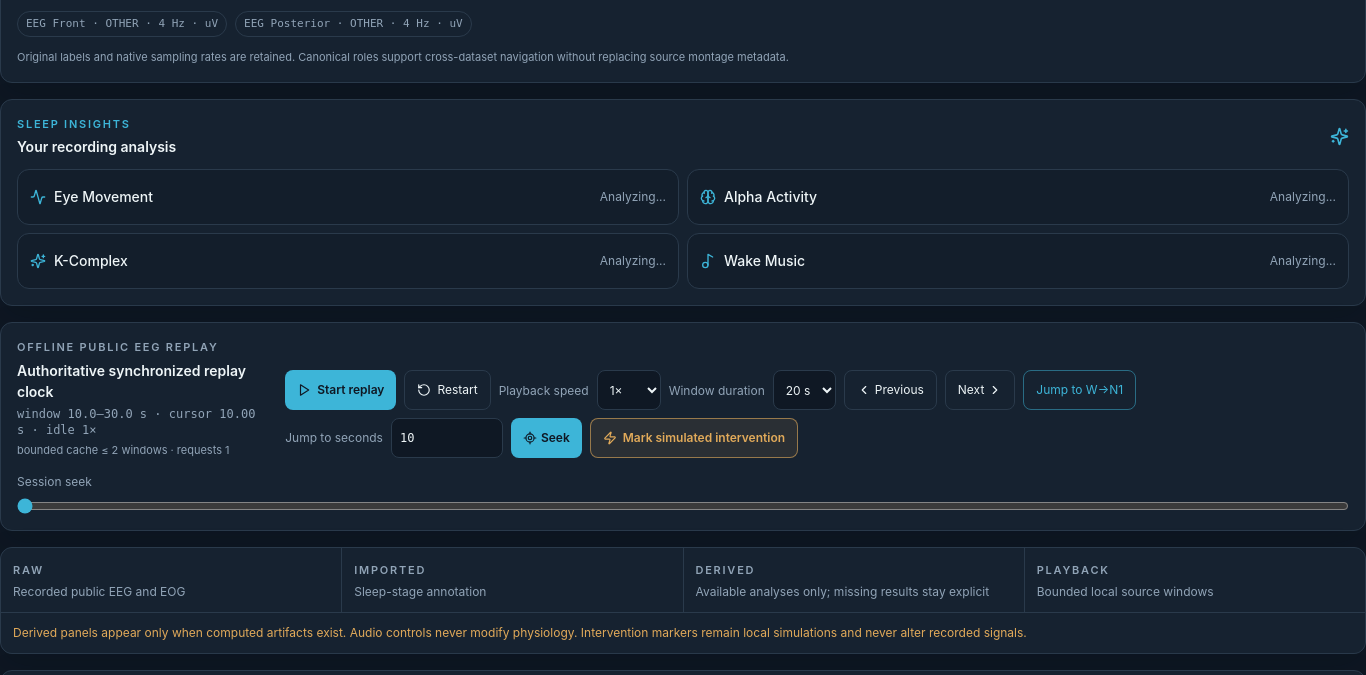
Scenario: real Alpha viewer states › advances an offline replay cursor and records only simulated intervention markers
This screenshot has width=1366, height=675.
Expected: the text with test id "window-range" shows "cursor 10.00 s · idle", [17,406,269,438]
Click the button "Start replay".
click(341, 390)  # box [285,370,396,410]
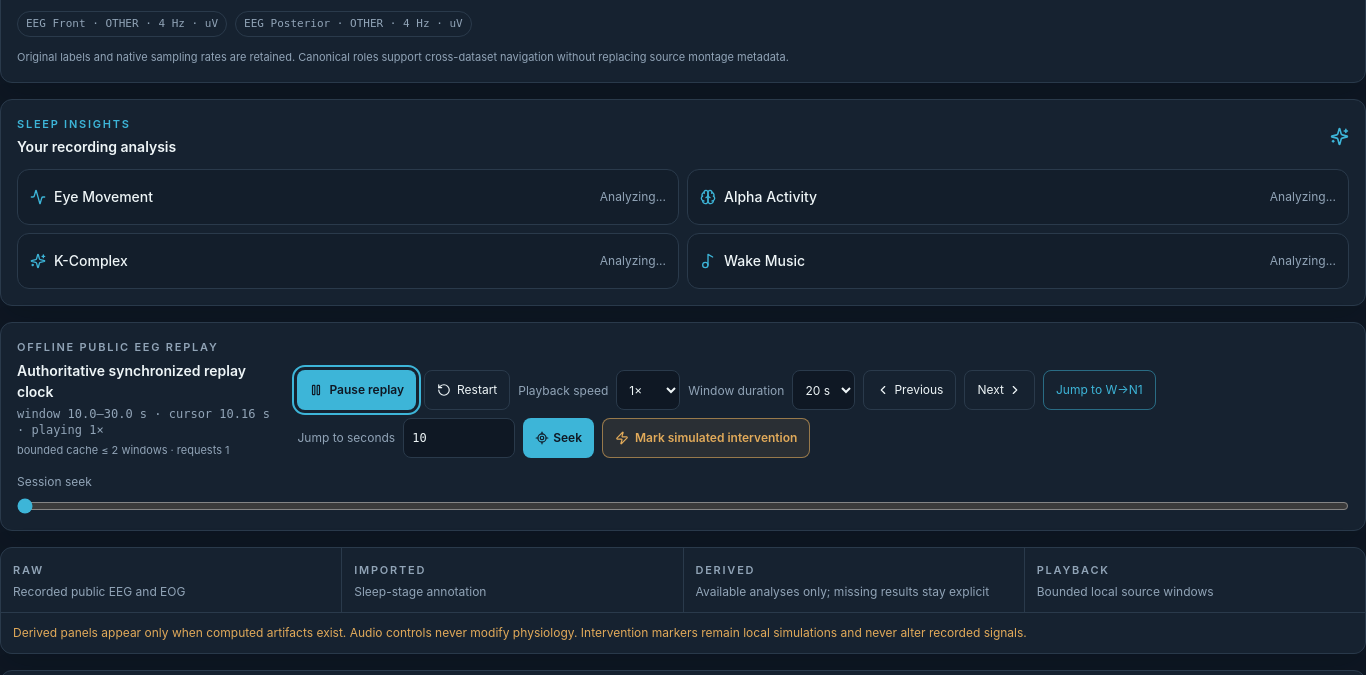
Expected: the text with test id "window-range" shows "playing 1×", [17,406,282,438]
Expected: the text with test id "window-range" no longer shows "cursor 10.00 s", [17,406,282,438]
Click the button "Pause replay".
click(357, 390)  # box [298,370,416,410]
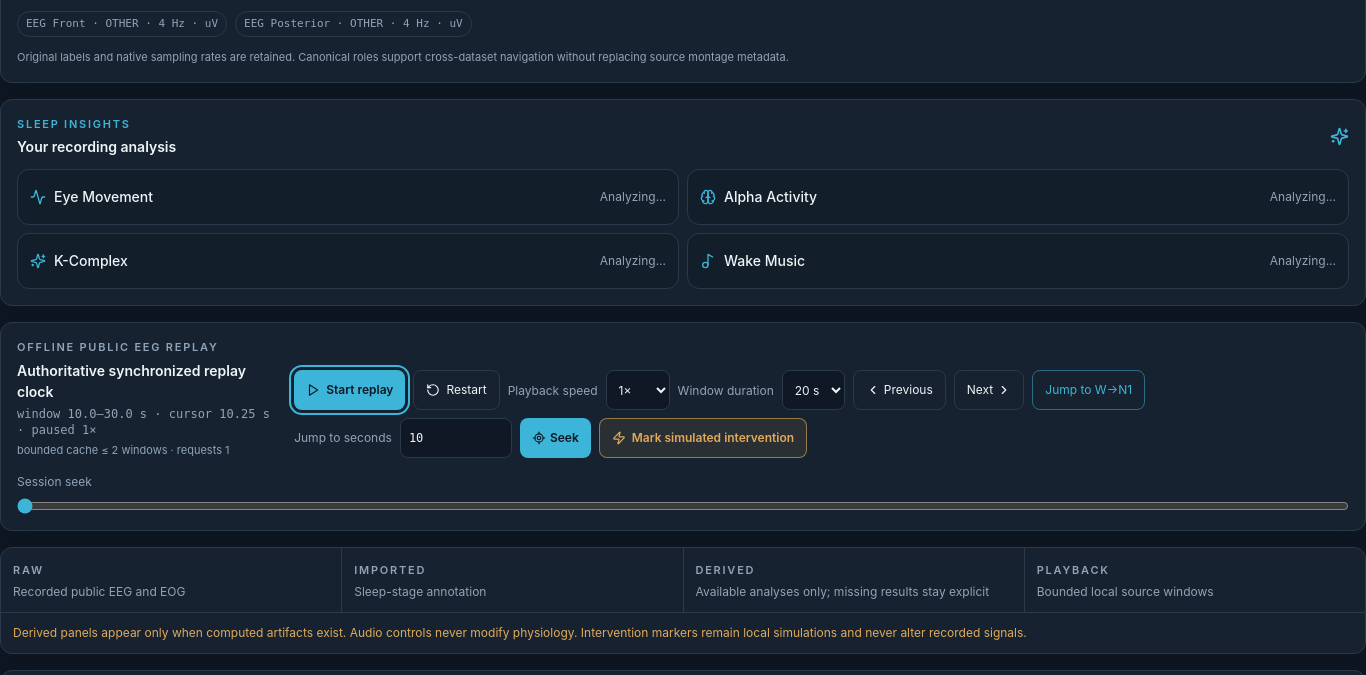
Click the button "Mark simulated intervention".
click(703, 438)  # box [599,418,807,458]
(page scrolled)
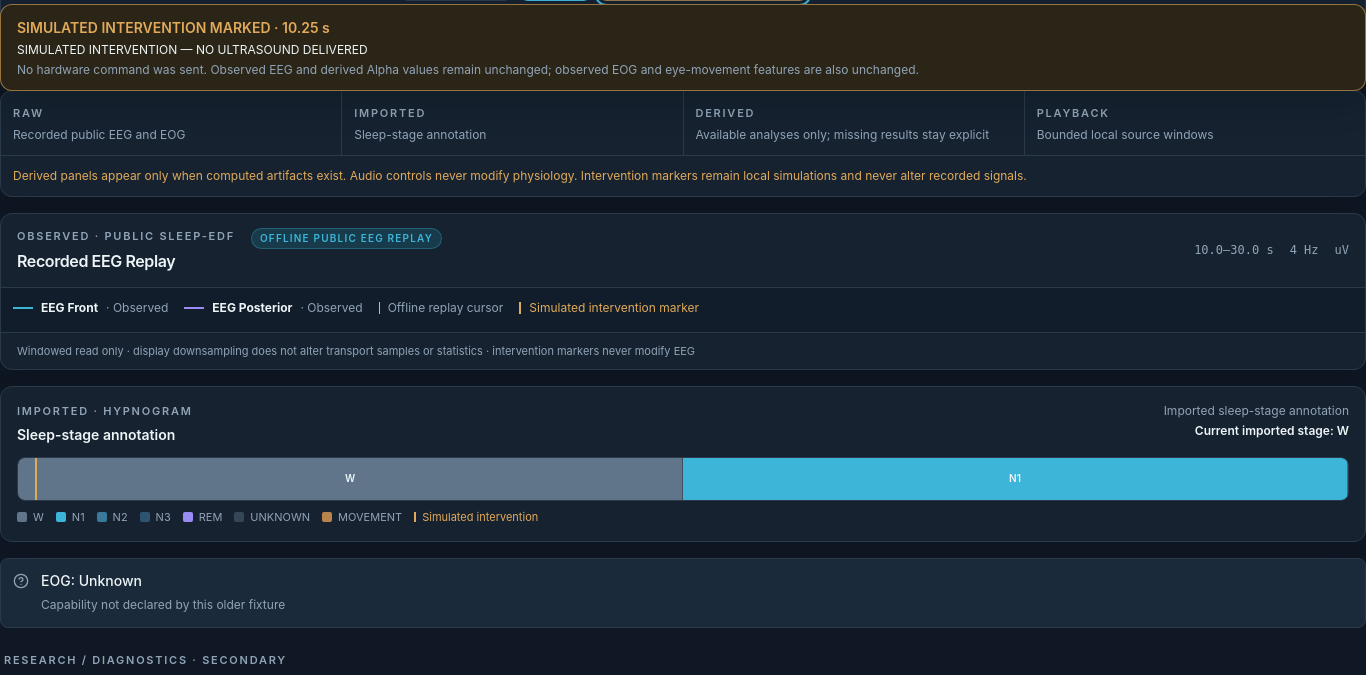
Expected: the message shows "SIMULATED INTERVENTION MARKED", [17,19,282,36]
Expected: the message shows "SIMULATED INTERVENTION — NO ULTRASOUND DELIVERED", [17,42,368,57]
Expected: the message shows "Observed EEG and derived Alpha values remain unchanged", [17,62,919,77]
